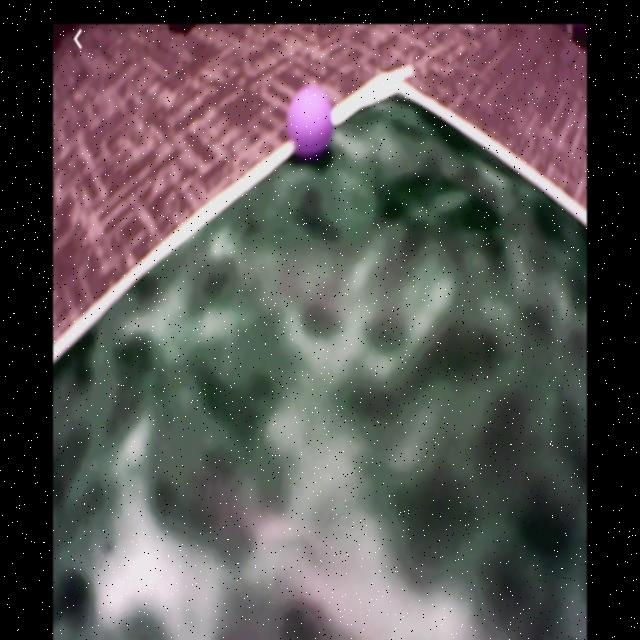ball: (288, 91, 333, 157)
